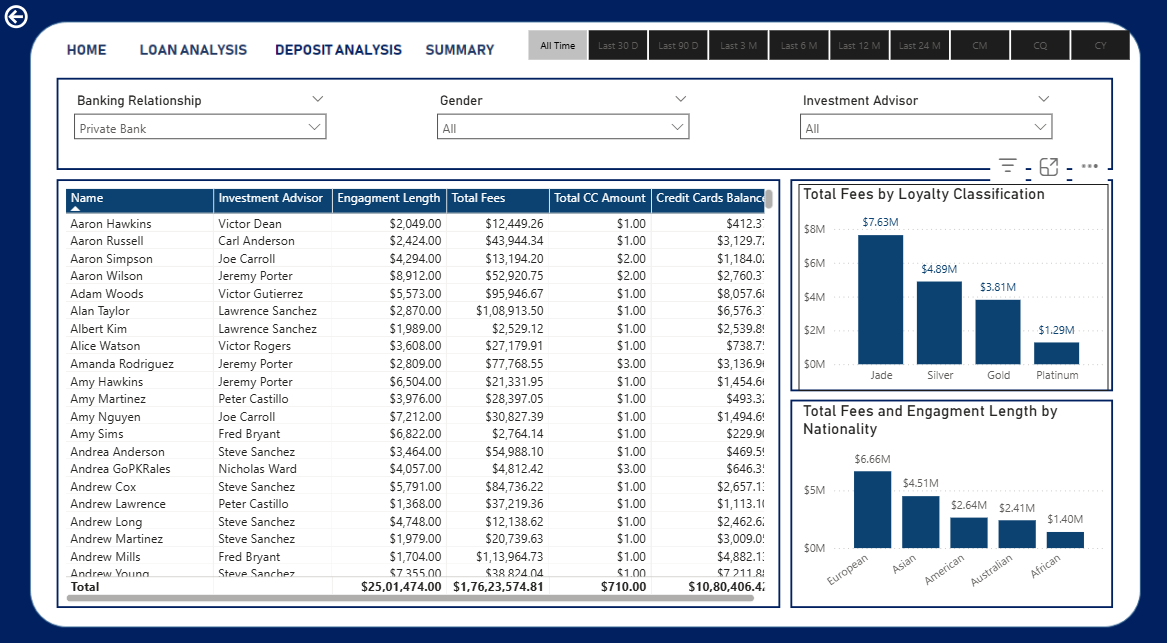

What the dashboard file says about the page in this screenshot:
{"tool":"powerbi","page":{"name":"Drill Through","canvas":[1280,720],"ordinal":4},"visuals":[{"type":"slicer","fields":{"Values":["Banking Relationship.Banking Relationship"]},"box":[77.4,104.4,293.2,76.2],"z":0},{"type":"slicer","fields":{"Values":["Gender.Gender"]},"box":[471.4,104.4,293.2,76.2],"z":1000},{"type":"slicer","fields":{"Values":["Investment Advisor.Investment Advisor"]},"box":[865.4,104.4,293.2,76.2],"z":2000},{"type":"tableEx","fields":{"Values":["Clients - Banking.Name","Investment Advisor.Investment Advisor","DAX Measures.Engagment Length","DAX Measures.Total Fees","DAX Measures.Total CC Amount","DAX Measures.Credit Cards"]},"box":[72.7,207.6,777.5,458.5],"z":3000},{"type":"actionButton","box":[8.2,10.6,41,34],"z":4000},{"type":"clusteredColumnChart","fields":{"Category":["Clients - Banking.Loyalty Classification"],"Y":["DAX Measures.Total Fees"]},"box":[873.6,207.6,336.5,225.1],"z":5000},{"type":"columnChart","fields":{"Category":["Clients - Banking.Nationality"],"Y":["DAX Measures.Total Fees"]},"box":[873.6,444.4,336.5,221.6],"z":6000},{"type":"slicer","fields":{"Values":["Period.Name"]},"box":[555.2,34.6,702.1,46.6],"z":7000},{"type":"actionButton","box":[72.8,44.2,58.5,31],"z":8000},{"type":"actionButton","box":[157.1,44.6,125.5,30.5],"z":9000},{"type":"actionButton","box":[297.9,44.6,151.3,30.5],"z":10000},{"type":"actionButton","box":[471.4,44.6,83.3,37.5],"z":11000}]}

Visuals, with their boxes in screenshot pixels (x1, y1, x2, y2), scaled from the page's 1280x720 canvas onto the 1167x643 screenshot:
slicer - Banking Relationship.Banking Relationship: {"left": 71, "top": 93, "right": 338, "bottom": 161}
slicer - Gender.Gender: {"left": 430, "top": 93, "right": 697, "bottom": 161}
slicer - Investment Advisor.Investment Advisor: {"left": 789, "top": 93, "right": 1056, "bottom": 161}
tableEx - Clients - Banking.Name x Investment Advisor.Investment Advisor: {"left": 66, "top": 185, "right": 775, "bottom": 595}
actionButton: {"left": 7, "top": 9, "right": 45, "bottom": 40}
clusteredColumnChart - Clients - Banking.Loyalty Classification x DAX Measures.Total Fees: {"left": 796, "top": 185, "right": 1103, "bottom": 386}
columnChart - Clients - Banking.Nationality x DAX Measures.Total Fees: {"left": 796, "top": 397, "right": 1103, "bottom": 595}
slicer - Period.Name: {"left": 506, "top": 31, "right": 1146, "bottom": 73}
actionButton: {"left": 66, "top": 39, "right": 120, "bottom": 67}
actionButton: {"left": 143, "top": 40, "right": 258, "bottom": 67}
actionButton: {"left": 272, "top": 40, "right": 410, "bottom": 67}
actionButton: {"left": 430, "top": 40, "right": 506, "bottom": 73}
